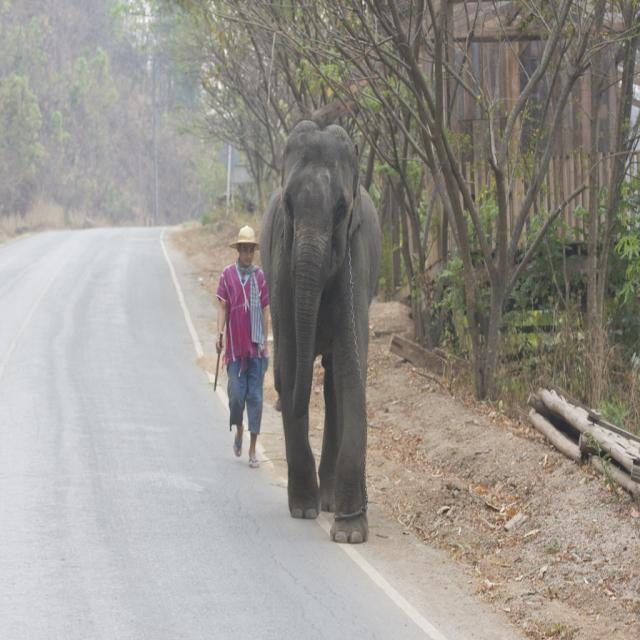elephant: (258, 119, 383, 544)
